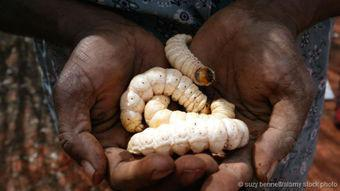grub: (118, 32, 251, 155)
